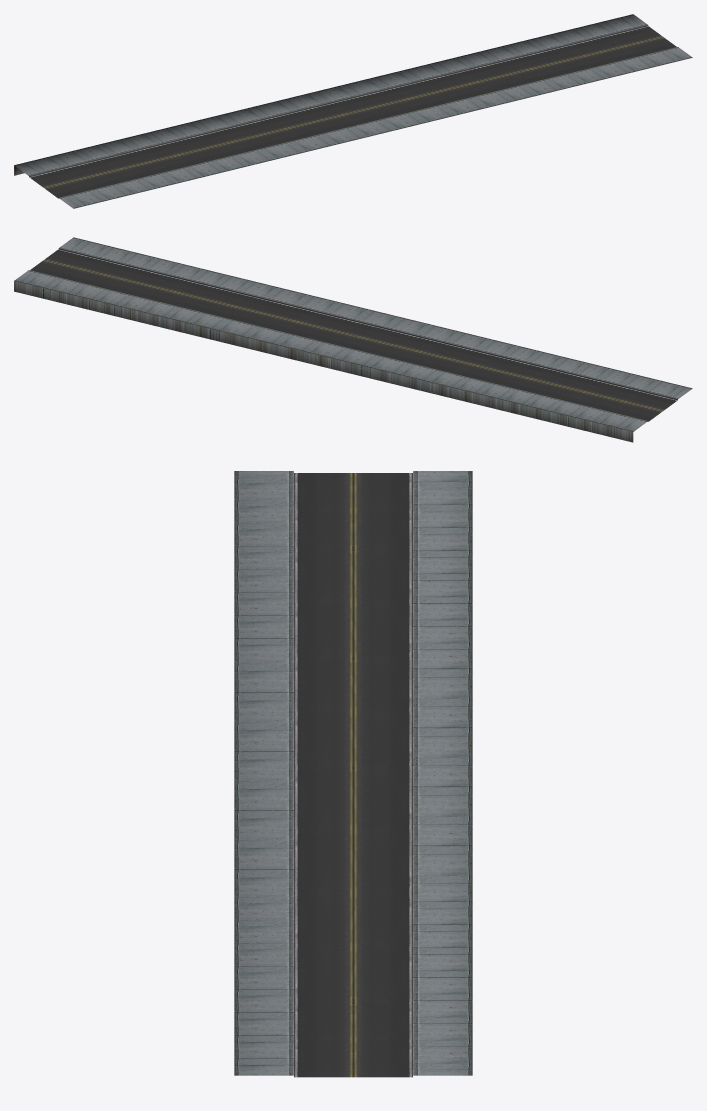
The model's file is laeroad12.obj.
The picture shows the model from 3 angles, top to bottom: view 1: azimuth 30°, elevation 25°; view 2: azimuth 150°, elevation 25°; view 3: azimuth 270°, elevation 25°; orthographic projection. The views are drawn at different scales.
Parts seen in each view (by area): view 1: laeroad12; view 2: laeroad12; view 3: laeroad12.
Part boxes in pixels (bbox=[...]): laeroad12: bbox=[14, 14, 692, 208]; laeroad12: bbox=[14, 237, 692, 442]; laeroad12: bbox=[234, 471, 472, 1077].
Size of the model in its own units: 120 by 1.97 by 20.
